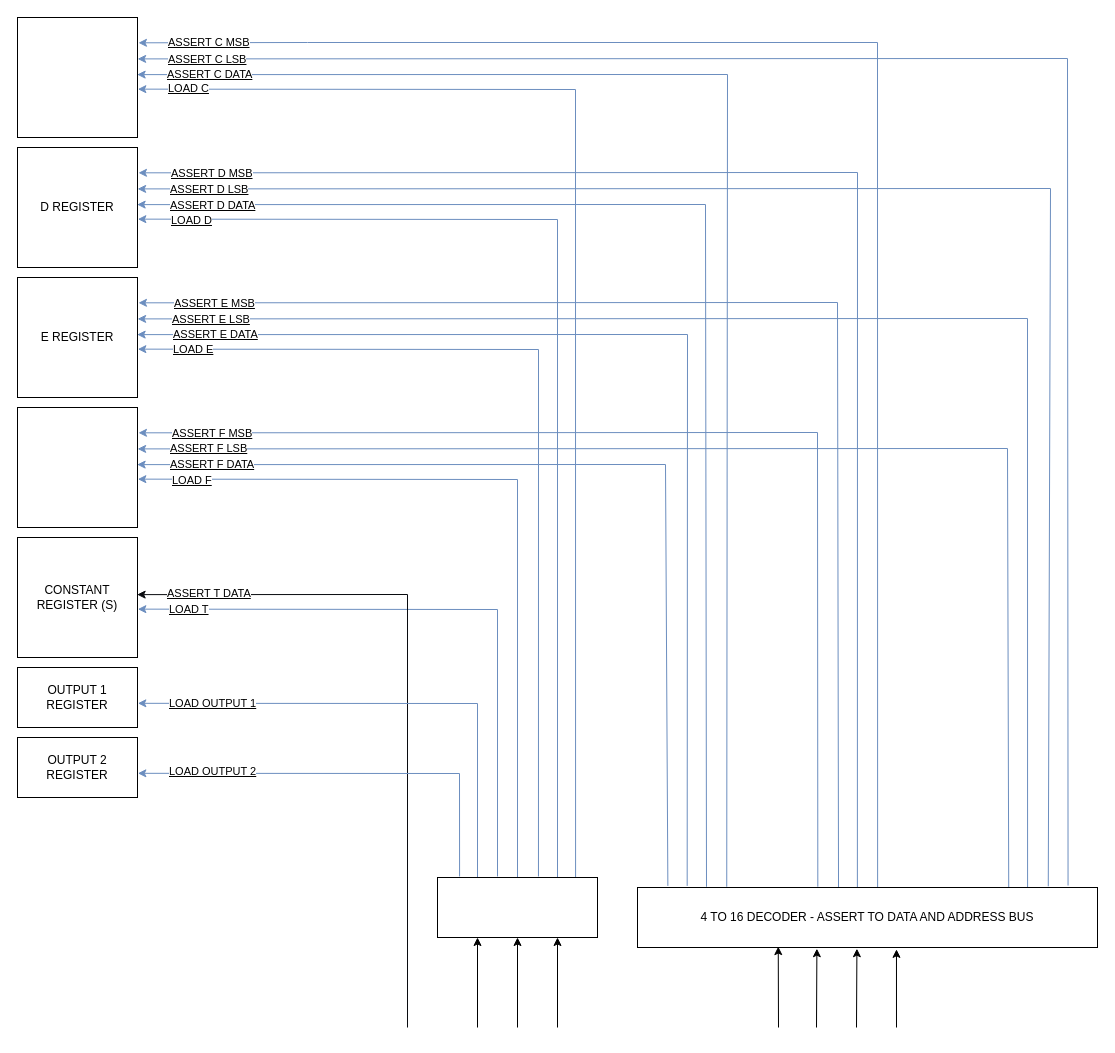
The diagram is 1115 pixels wide and 1053 high, and some of its shapes have lost their labels. The box of each missing label's shape, as (x1, y1, x2, y2) in pixels:
3 TO 8 DECODER ACTIVE LOW LOAD REGISTER: (436, 876, 598, 938)
C REGISTER: (16, 16, 138, 138)
F REGISTER: (16, 406, 138, 528)
